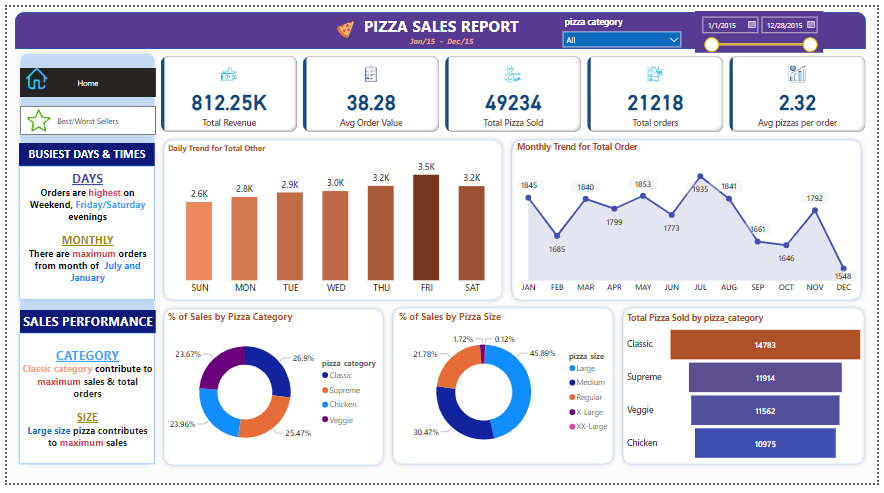

What the dashboard file says about the page in this screenshot:
{"tool":"powerbi","page":{"name":"Home","canvas":[1500,820],"ordinal":0},"visuals":[{"type":"shape","box":[15.5,72.4,246.6,724.1],"z":0},{"type":"pageNavigator","box":[22.4,170.7,234.5,50],"z":1000},{"type":"cardVisual","fields":{"Data":["pizza_sales.Total Revenue","pizza_sales.Avg Order Value","pizza_sales.Total Pizza Sold","pizza_sales.Total orders","pizza_sales.Avg pizzas per order"]},"box":[260.3,79.3,1225.9,141.4],"z":2000},{"type":"shape","box":[13.8,8.6,1467.2,63.8],"z":3000},{"type":"textbox","box":[604.5,9,288.1,70.1],"z":4000},{"type":"textbox","box":[679.1,44.8,138.8,34.3],"z":5000},{"type":"image","box":[546.3,19.4,74.6,40.3],"z":6000},{"type":"shape","box":[262.1,220.7,600,293.1],"z":7000},{"type":"columnChart","title":"Daily Trend for Total Other","fields":{"Category":["pizza_sales.Order Day"],"Y":["pizza_sales.Total orders"]},"box":[272.4,234.5,589.7,270.7],"z":8000},{"type":"shape","box":[862.1,220.7,619,293.1],"z":9000},{"type":"areaChart","title":"Monthly Trend for Total Order","fields":{"Category":["pizza_sales.Order Month"],"Y":["pizza_sales.Total orders"]},"box":[874.1,231,593.1,270.7],"z":10000},{"type":"shape","box":[262.1,512.1,394.8,286.2],"z":11000},{"type":"shape","box":[1053.4,510.3,432.8,286.2],"z":12000},{"type":"shape","box":[656.9,510.3,396.6,286.2],"z":13000},{"type":"donutChart","title":"% of Sales by Pizza Category","fields":{"Category":["pizza_sales.pizza_category"],"Y":["pizza_sales.Total Revenue"]},"box":[272.4,522.4,384.5,262.1],"z":14000},{"type":"donutChart","title":"% of Sales by Pizza Size","fields":{"Y":["pizza_sales.Total Revenue"],"Category":["pizza_sales.pizza_size"]},"box":[670.7,522.4,382.8,262.1],"z":15000},{"type":"funnel","fields":{"Category":["pizza_sales.pizza_category"],"Y":["pizza_sales.Total Pizza Sold"]},"box":[1063.8,525.9,417.2,262.1],"z":16000},{"type":"textbox","box":[20.7,234.5,234.5,39.7],"z":17000},{"type":"pageNavigator","box":[22.4,105.2,234.5,50],"z":18000,"group":"g1"},{"type":"textbox","box":[20.7,274.1,234.5,231],"z":19000},{"type":"textbox","box":[22.4,522.4,234.5,39.7],"z":20000},{"type":"textbox","box":[20.7,562.1,234.5,225.9],"z":21000},{"type":"slicer","fields":{"Values":["pizza_sales.pizza_category"]},"box":[948.3,10.3,224.1,60.3],"z":22000},{"type":"slicer","fields":{"Values":["pizza_sales.order_date"]},"box":[1186.2,6.9,220.7,72.4],"z":23000},{"type":"image","box":[194.8,105.2,77.6,37.9],"z":24000},{"type":"image","box":[13.8,100,75.9,46.6],"z":25000,"group":"g1"},{"type":"image","box":[20.7,170.7,69,50],"z":26000},{"type":"group","id":"g1","title":"Group 1","box":[13.8,100,243.1,55.2],"z":26001}]}

Visuals, with their boxes in screenshot pixels (x1, y1, x2, y2), scaled from the page's 1500x820 canvas onto the 884x493 screenshot:
shape: <box>9,44,154,479</box>
pageNavigator: <box>13,103,151,133</box>
cardVisual - pizza_sales.Total Revenue x pizza_sales.Avg Order Value: <box>153,48,876,133</box>
shape: <box>8,5,873,44</box>
textbox: <box>356,5,526,48</box>
textbox: <box>400,27,482,48</box>
image: <box>322,12,366,36</box>
shape: <box>154,133,508,309</box>
"Daily Trend for Total Other" columnChart: <box>161,141,508,304</box>
shape: <box>508,133,873,309</box>
"Monthly Trend for Total Order" areaChart: <box>515,139,865,302</box>
shape: <box>154,308,387,480</box>
shape: <box>621,307,876,479</box>
shape: <box>387,307,621,479</box>
"% of Sales by Pizza Category" donutChart: <box>161,314,387,472</box>
"% of Sales by Pizza Size" donutChart: <box>395,314,621,472</box>
funnel - pizza_sales.pizza_category x pizza_sales.Total Pizza Sold: <box>627,316,873,474</box>
textbox: <box>12,141,150,165</box>
pageNavigator: <box>13,63,151,93</box>
textbox: <box>12,165,150,304</box>
textbox: <box>13,314,151,338</box>
textbox: <box>12,338,150,474</box>
slicer - pizza_sales.pizza_category: <box>559,6,691,42</box>
slicer - pizza_sales.order_date: <box>699,4,829,48</box>
image: <box>115,63,161,86</box>
image: <box>8,60,53,88</box>
image: <box>12,103,53,133</box>
"Group 1" group: <box>8,60,151,93</box>
